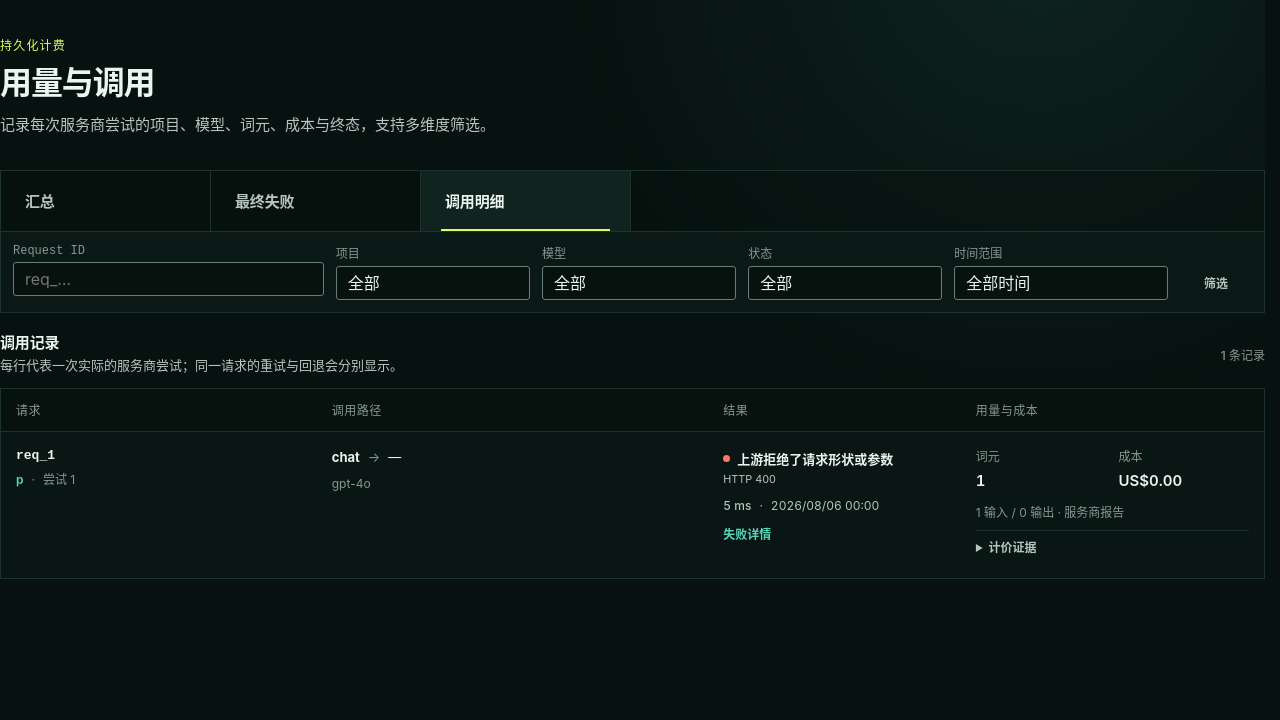
Test: UsagePage failure detail › shows the upstream's own code and request ID
This screenshot has width=1280, height=720.
Expected: the text "上游拒绝了请求形状或参数" is shown, [723, 451, 893, 468]
Click the button "失败详情": click(747, 535) [723, 527, 771, 543]
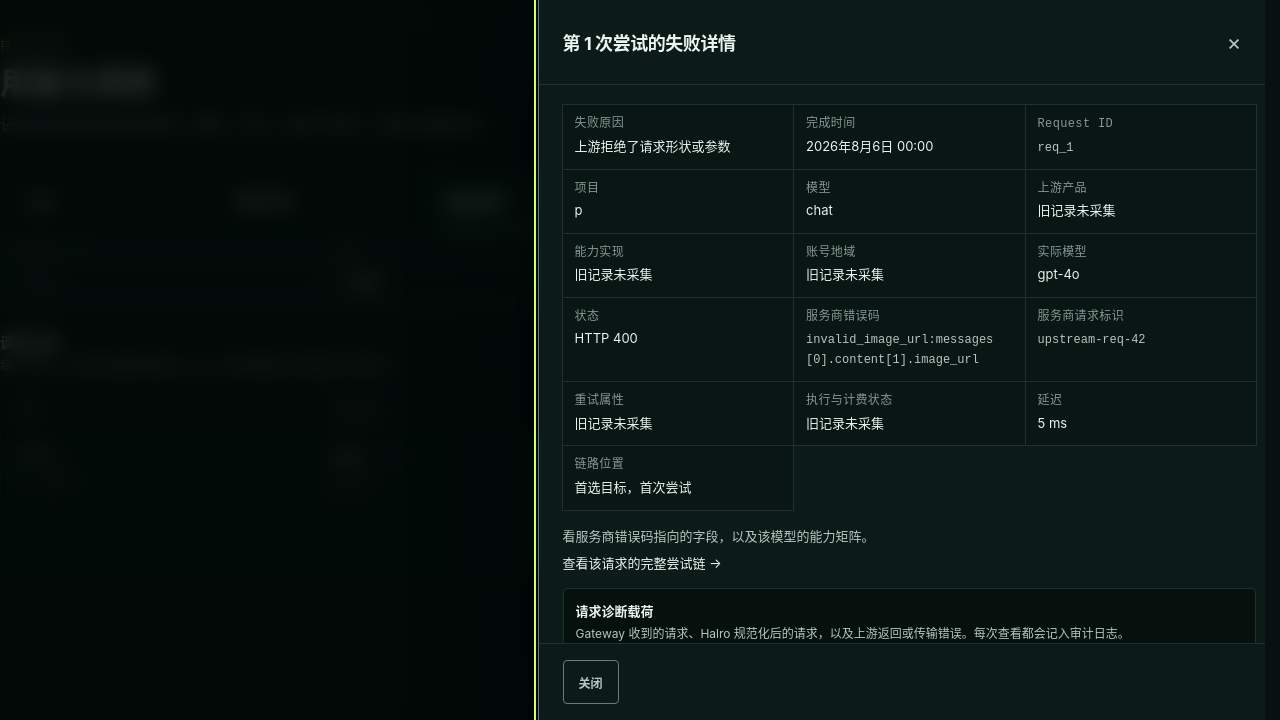
Expected: the text "invalid_image_url:messages[0].content[1].image_url" is shown, [806, 333, 993, 367]
Expected: the text "upstream-req-42" is shown, [1038, 333, 1146, 347]
